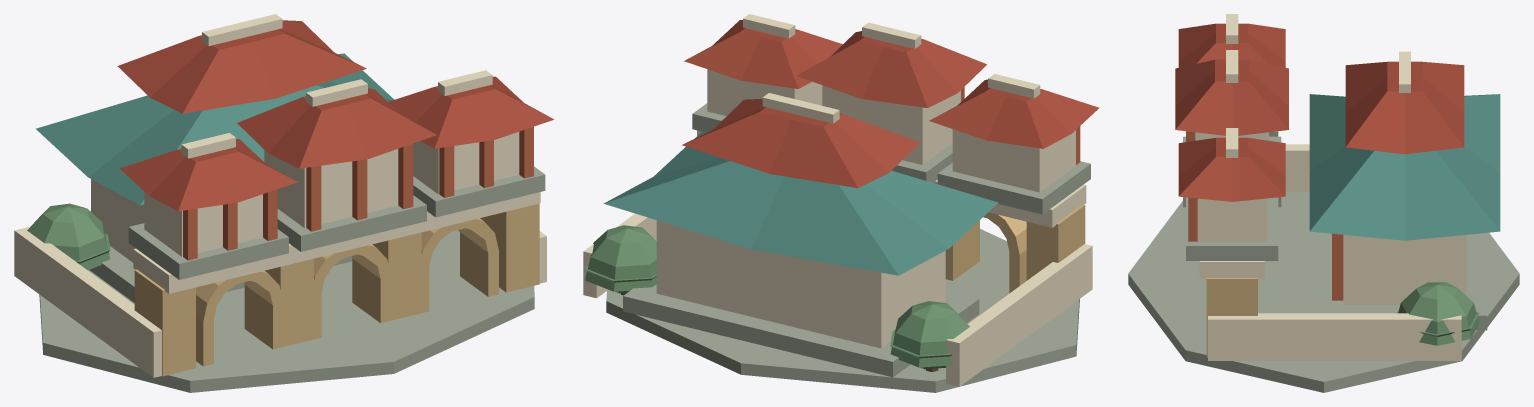
Rendered from changan.glb.
3 views of the same model, side by side, from view 1: azimuth 30°, elevation 25°; view 2: azimuth 150°, elevation 25°; view 3: azimuth 270°, elevation 25° (orthographic). The views are drawn at different scales.
Parts seen in each view (by area): view 1: changan_stone, changan_roof_red, changan_cream, changan_sandstone, changan_teal, changan_terracotta, changan_foliage; view 2: changan_cream, changan_roof_red, changan_stone, changan_teal, changan_foliage, changan_sandstone; view 3: changan_roof_red, changan_cream, changan_stone, changan_teal, changan_foliage, changan_sandstone, changan_terracotta.
Boxes of the visible parts, <box> form: changan_stone: <box>39,166,545,392</box>; changan_roof_red: <box>117,20,553,211</box>; changan_cream: <box>14,14,546,377</box>; changan_sandstone: <box>134,203,539,376</box>; changan_teal: <box>36,53,394,205</box>; changan_terracotta: <box>183,126,533,260</box>; changan_foliage: <box>27,203,110,270</box>; changan_cream: <box>583,14,1092,386</box>; changan_roof_red: <box>682,20,1099,187</box>; changan_stone: <box>606,103,1090,392</box>; changan_teal: <box>603,130,998,275</box>; changan_foliage: <box>585,225,969,369</box>; changan_sandstone: <box>945,204,1085,293</box>; changan_roof_red: <box>1175,23,1464,201</box>; changan_cream: <box>1195,14,1466,360</box>; changan_stone: <box>1128,131,1519,392</box>; changan_teal: <box>1309,94,1500,240</box>; changan_foliage: <box>1396,282,1479,345</box>; changan_sandstone: <box>1206,278,1257,357</box>; changan_terracotta: <box>1186,131,1343,300</box>.
Size of the model in its own units: 2.1 by 1 by 1.6.
